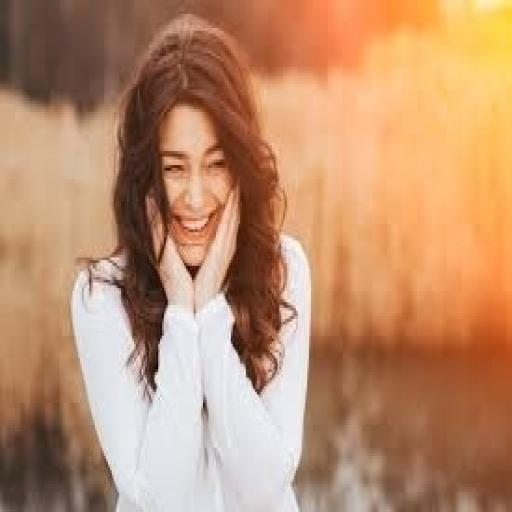laughing: (66, 11, 318, 509)
